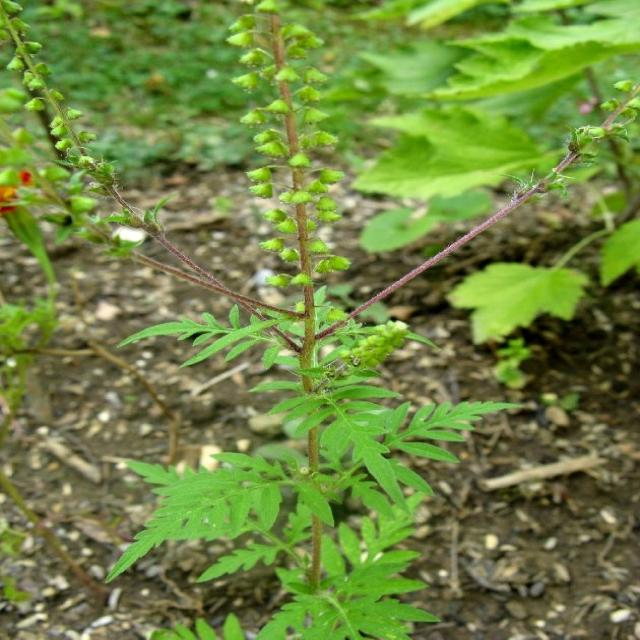ambrosia: (128, 429, 428, 640), (234, 15, 359, 346)
